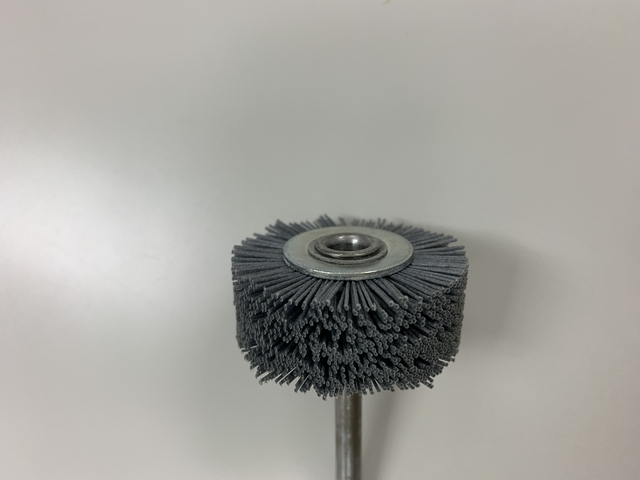Wheel Brush: (219, 204, 460, 480), (249, 202, 481, 453)
